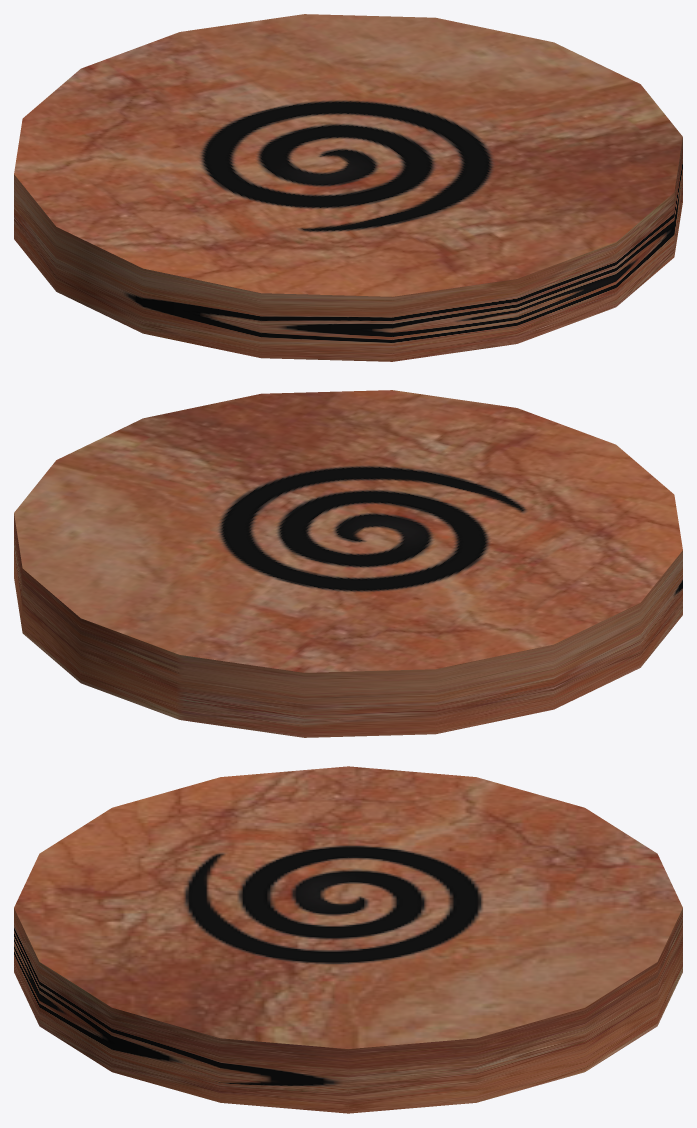
The model's file is medallon_final.FBX.
3 views of the same model, one above another, from view 1: azimuth 30°, elevation 25°; view 2: azimuth 150°, elevation 25°; view 3: azimuth 270°, elevation 25° (orthographic).
Visible parts, largest first — view 1: medallon_final; view 2: medallon_final; view 3: medallon_final.
Boxes of the visible parts, x1,y1,x2,y2 form: medallon_final: (14, 14, 682, 361); medallon_final: (14, 390, 682, 737); medallon_final: (14, 766, 682, 1113).
Bounding box in the file's own units: 2.05 × 0.2178 × 2.05.
